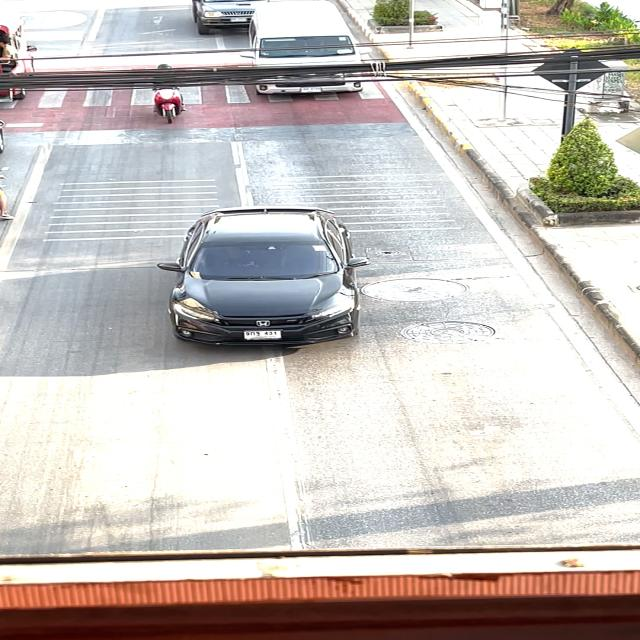car: (140, 177, 385, 351), (243, 0, 369, 103), (181, 0, 260, 38)
